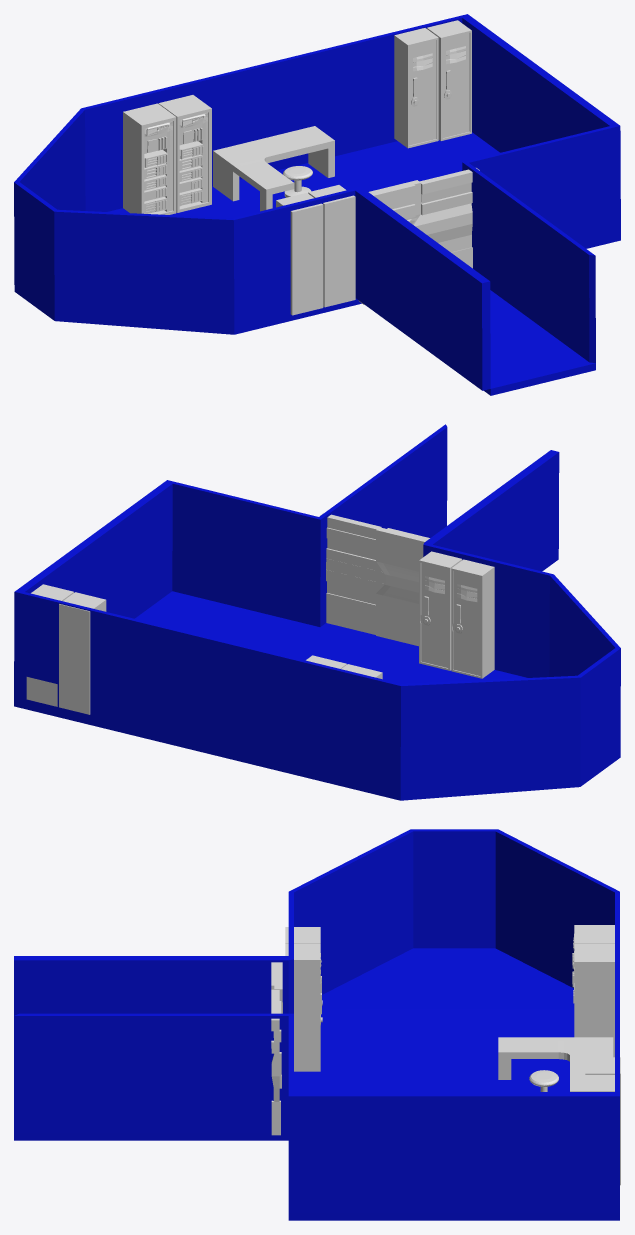
Rendered from Base Among(AndAssets)(INCOMPLETO).fbx.
The picture shows the model from 3 angles, top to bottom: view 1: azimuth 30°, elevation 25°; view 2: azimuth 150°, elevation 25°; view 3: azimuth 270°, elevation 25°; orthographic projection. The views are drawn at different scales.
Visible parts, largest first — view 1: Cube, Cubo.010, Cubo, Cubo.005, Cubo.008, Cubo.003, Cubo.004, Cubo.007, Cubo.006, Cubo.001, Cilindro; view 2: Cube, Cubo.003, Cubo.007, Cubo.001, Cubo.005, Cubo.006, Cubo.004; view 3: Cube, Cubo.008, Cubo.006, Cubo, Cubo.003, Cubo.010, Cubo.005, Cubo.007.
Part boxes in pixels (x1,y1,x2,y2): Cube: (14,14,620,395); Cubo.010: (123,103,176,214); Cubo: (213,126,334,211); Cubo.005: (394,28,438,148); Cubo.008: (158,95,211,212); Cubo.003: (412,168,479,268); Cubo.004: (427,20,471,140); Cubo.007: (276,193,323,315); Cubo.006: (308,185,355,307); Cubo.001: (358,180,420,304); Cilindro: (283,166,312,197); Cube: (14,424,620,800); Cubo.003: (320,513,384,634); Cubo.007: (451,559,494,678); Cubo.001: (376,527,429,646); Cubo.005: (59,592,106,714); Cubo.006: (419,551,462,670); Cubo.004: (26,584,73,706); Cube: (14,829,619,1220); Cubo.008: (572,943,614,1057); Cubo.006: (285,943,322,1071); Cubo: (498,1037,613,1091); Cubo.003: (271,989,281,1135); Cubo.010: (572,925,614,982); Cubo.005: (585,1057,620,1185); Cubo.007: (285,927,322,1005).
Size of the model in its own units: 2949 by 633 by 2801.
